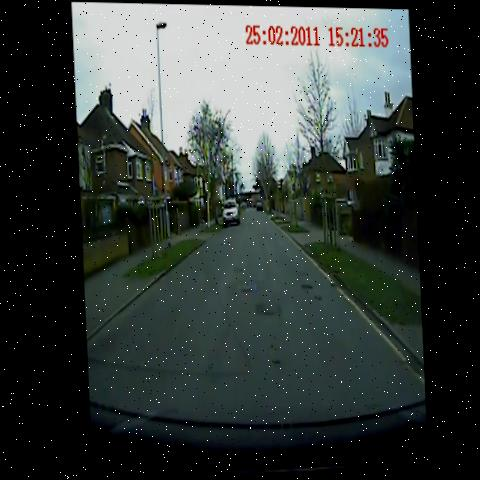pothole: (257, 336, 289, 371), (295, 272, 326, 304), (235, 273, 263, 302), (251, 297, 282, 322), (325, 271, 342, 298), (229, 259, 248, 280)
